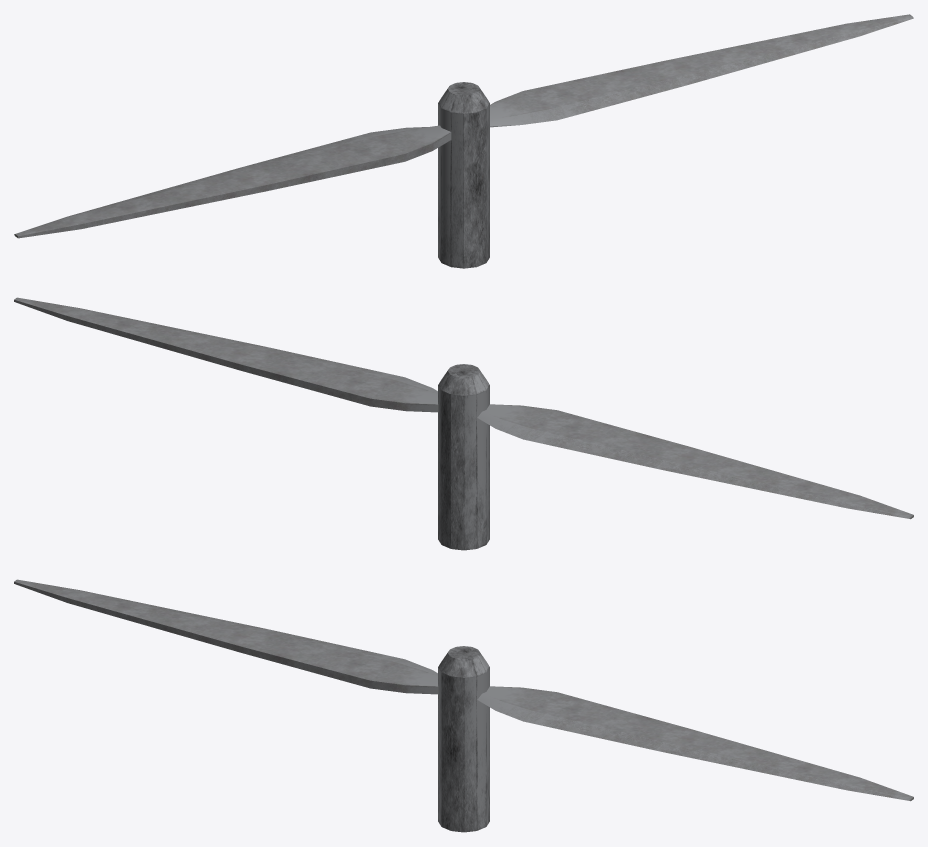
Rendered from propeller_m_4.fbx.
The picture shows the model from 3 angles, top to bottom: view 1: azimuth 30°, elevation 25°; view 2: azimuth 150°, elevation 25°; view 3: azimuth 330°, elevation 25°; orthographic projection.
Parts seen in each view (by area): view 1: propeller_m_4; view 2: propeller_m_4; view 3: propeller_m_4.
Part boxes in pixels (x1,y1,x2,y2): propeller_m_4: (14, 14, 913, 268); propeller_m_4: (14, 297, 913, 550); propeller_m_4: (14, 579, 913, 832).
Size of the model in its own units: 20 by 3.6 by 1.35.
